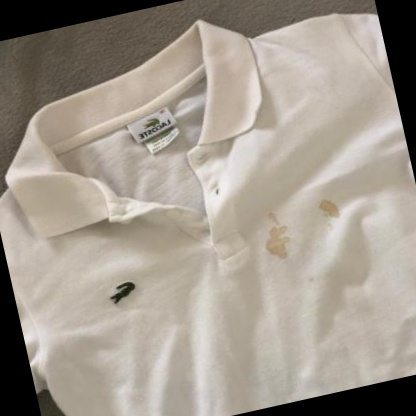coffee: (262, 224, 292, 262), (320, 198, 341, 220)
